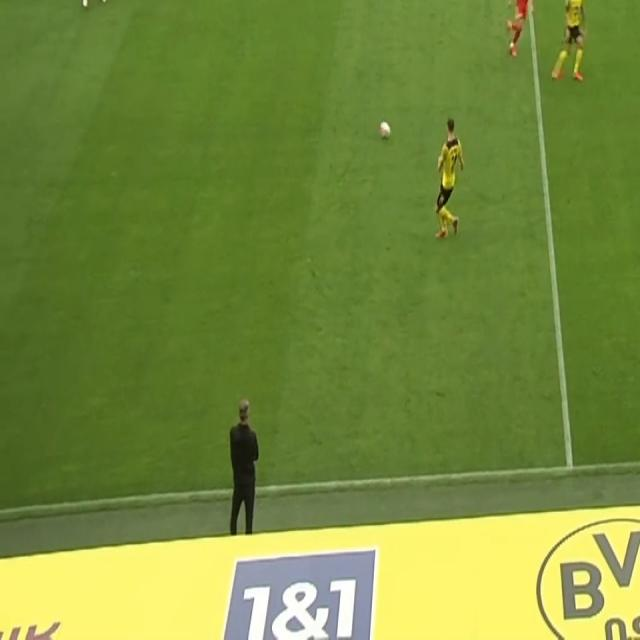ball: (378, 118, 392, 142)
